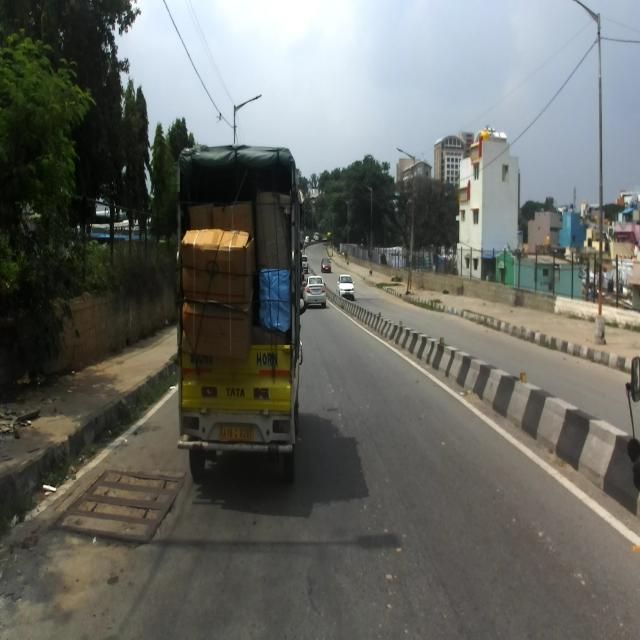Car_Maruti-Suzuki: (303, 276, 326, 308)
Car_TATA: (336, 275, 354, 300)
truck: (177, 144, 305, 484)
